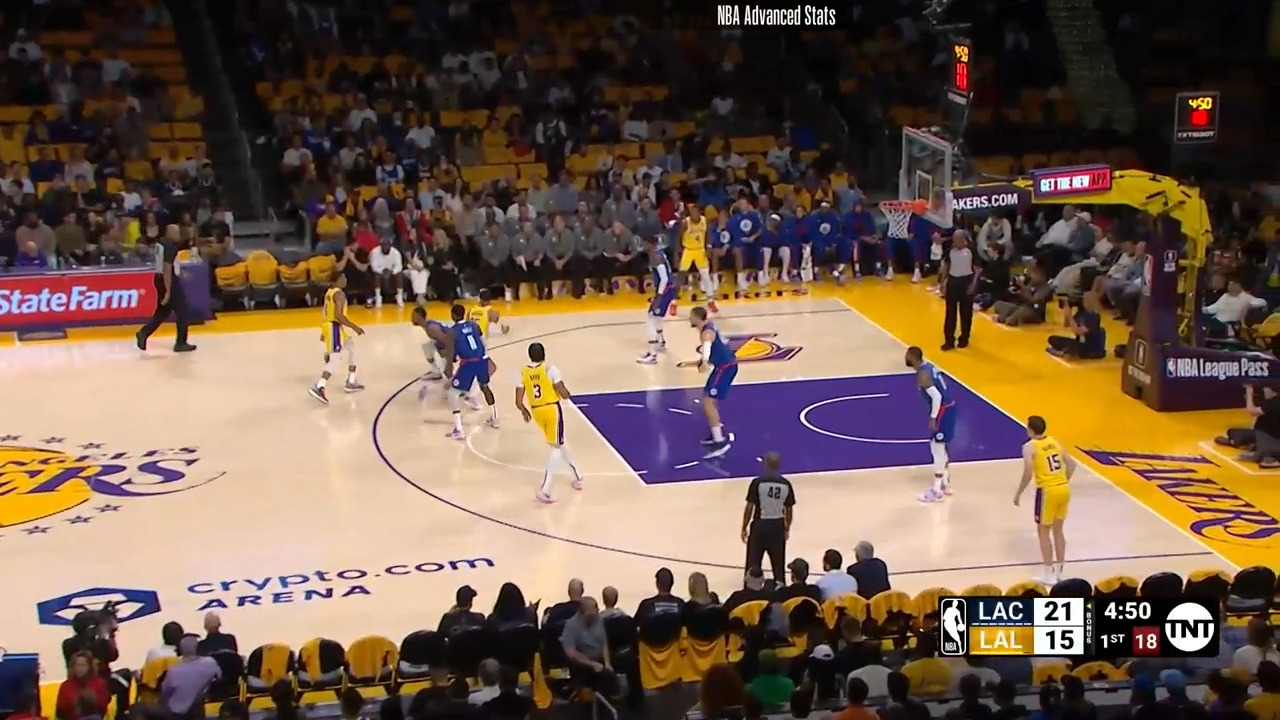net: (876, 191, 932, 239)
player: (678, 305, 761, 463), (514, 338, 590, 507), (1007, 410, 1075, 587), (898, 343, 959, 508), (406, 304, 473, 448), (439, 302, 500, 444), (308, 261, 366, 404), (668, 201, 725, 318), (635, 234, 684, 366), (468, 286, 513, 368)
referee: (131, 218, 199, 357), (732, 448, 796, 588), (939, 226, 983, 353)
